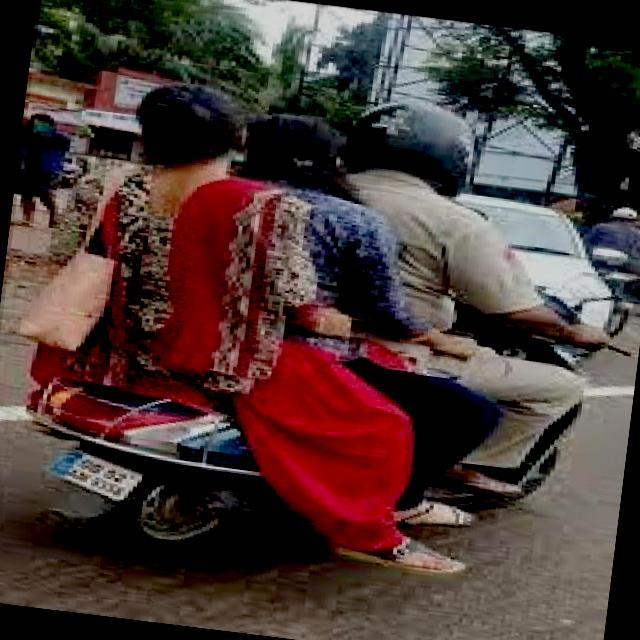motorcycle: (2, 222, 623, 603)
person: (312, 82, 565, 456), (75, 74, 326, 396), (214, 98, 417, 404)
rider_region: (9, 52, 640, 602)
